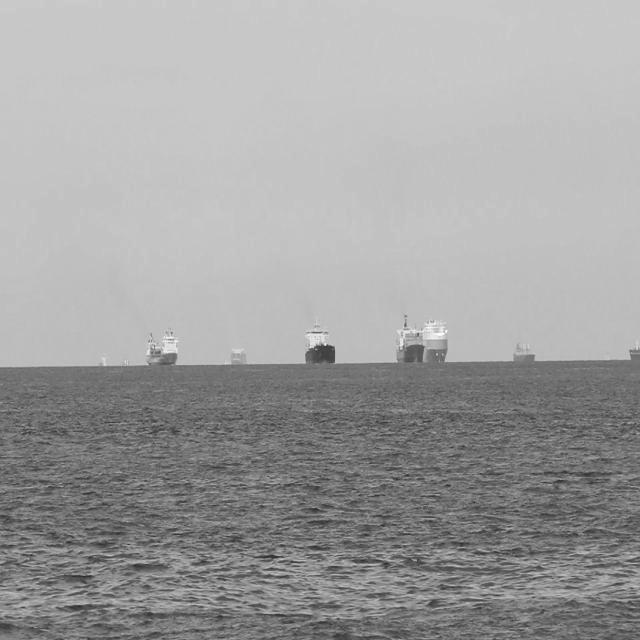ship: (303, 313, 337, 369), (394, 308, 426, 365), (144, 326, 182, 368), (422, 311, 450, 366), (510, 337, 538, 364), (229, 344, 249, 366), (96, 348, 109, 368), (628, 342, 638, 364), (122, 352, 131, 368)
